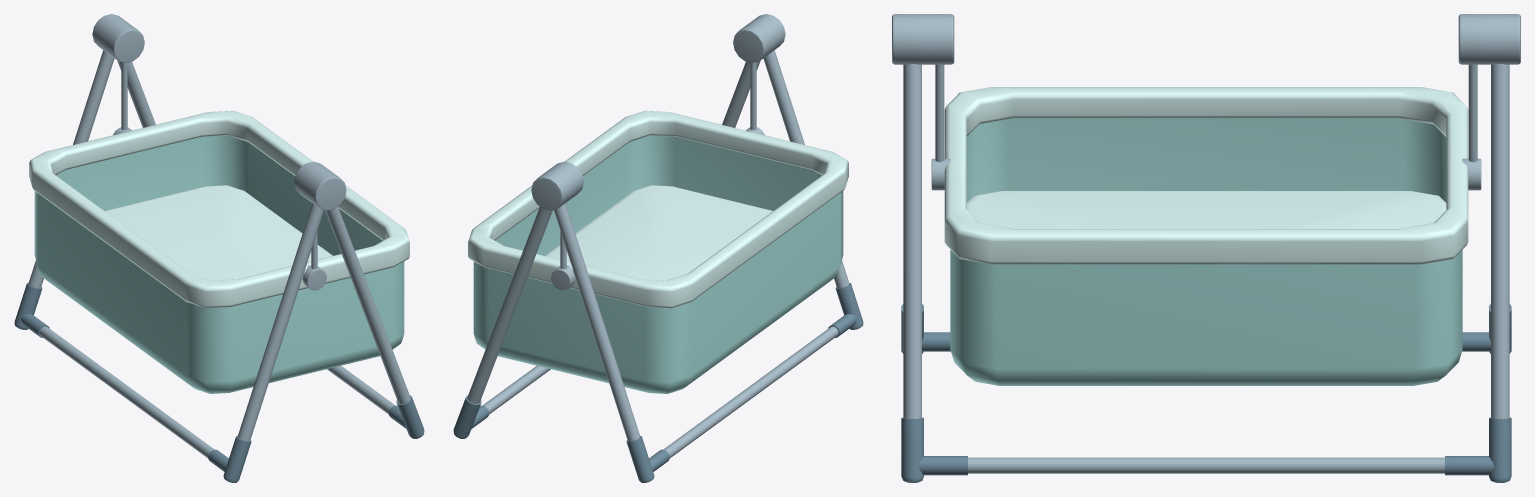
File: Swing_02.fbx
3 views of the same model, side by side, from view 1: azimuth 30°, elevation 25°; view 2: azimuth 150°, elevation 25°; view 3: azimuth 270°, elevation 25° (orthographic). The views are drawn at different scales.
Visible parts, largest first — view 1: Swing_02, Swing_Legs; view 2: Swing_02, Swing_Legs; view 3: Swing_02, Swing_Legs.
Part boxes in pixels (x1=…): Swing_02: x1=29, y1=110, x2=409, y2=393; Swing_Legs: x1=14, y1=14, x2=424, y2=482; Swing_02: x1=468, y1=110, x2=848, y2=393; Swing_Legs: x1=453, y1=14, x2=863, y2=482; Swing_02: x1=944, y1=87, x2=1468, y2=385; Swing_Legs: x1=892, y1=14, x2=1520, y2=482.
Bounding box in the file's own units: 86.79 × 108 × 152.
1 material, 1 textured.
